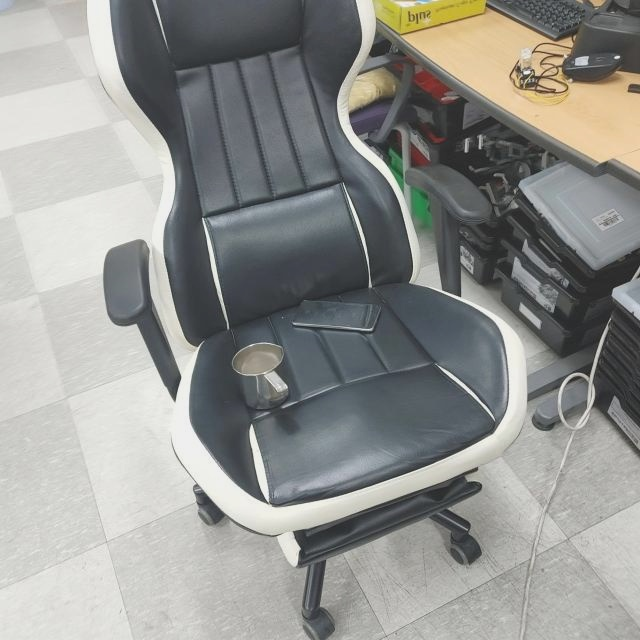cup: (231, 340, 292, 412)
phone: (292, 299, 384, 333)
